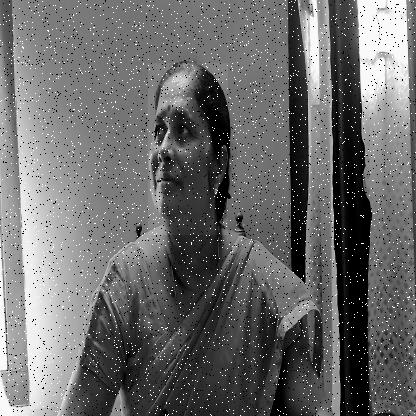Distracted: (148, 63, 228, 235)
